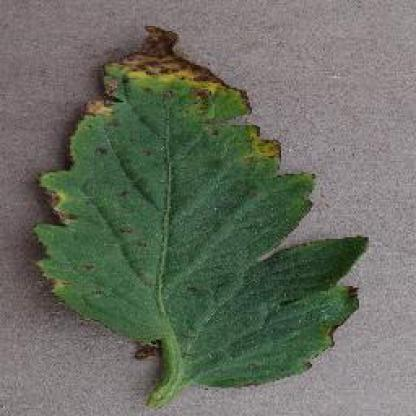bad leaf: (36, 18, 352, 409)
